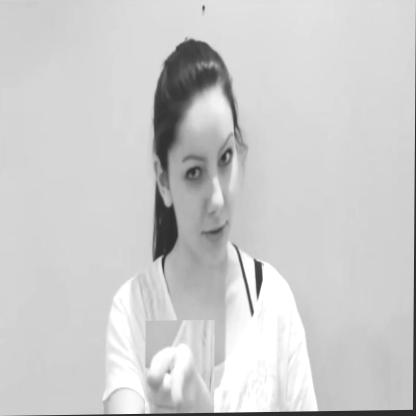HowAreYou: (146, 320, 215, 414)
